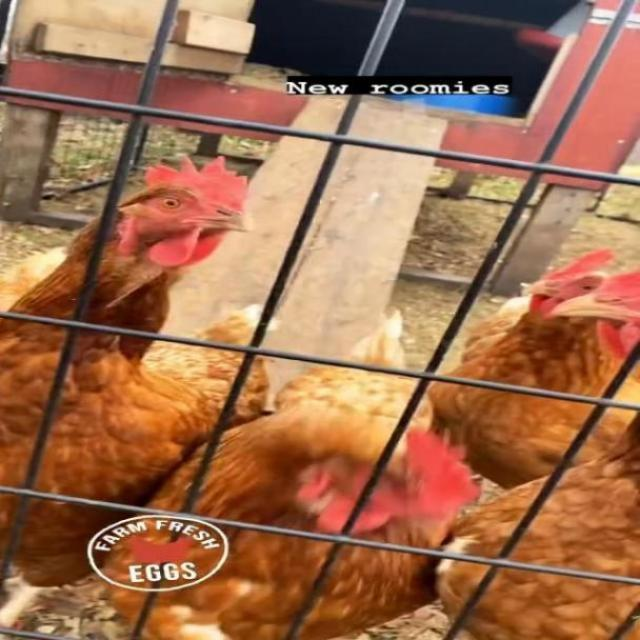Chicken: (0, 157, 279, 640), (104, 307, 484, 640), (436, 266, 640, 640), (424, 248, 640, 492)
